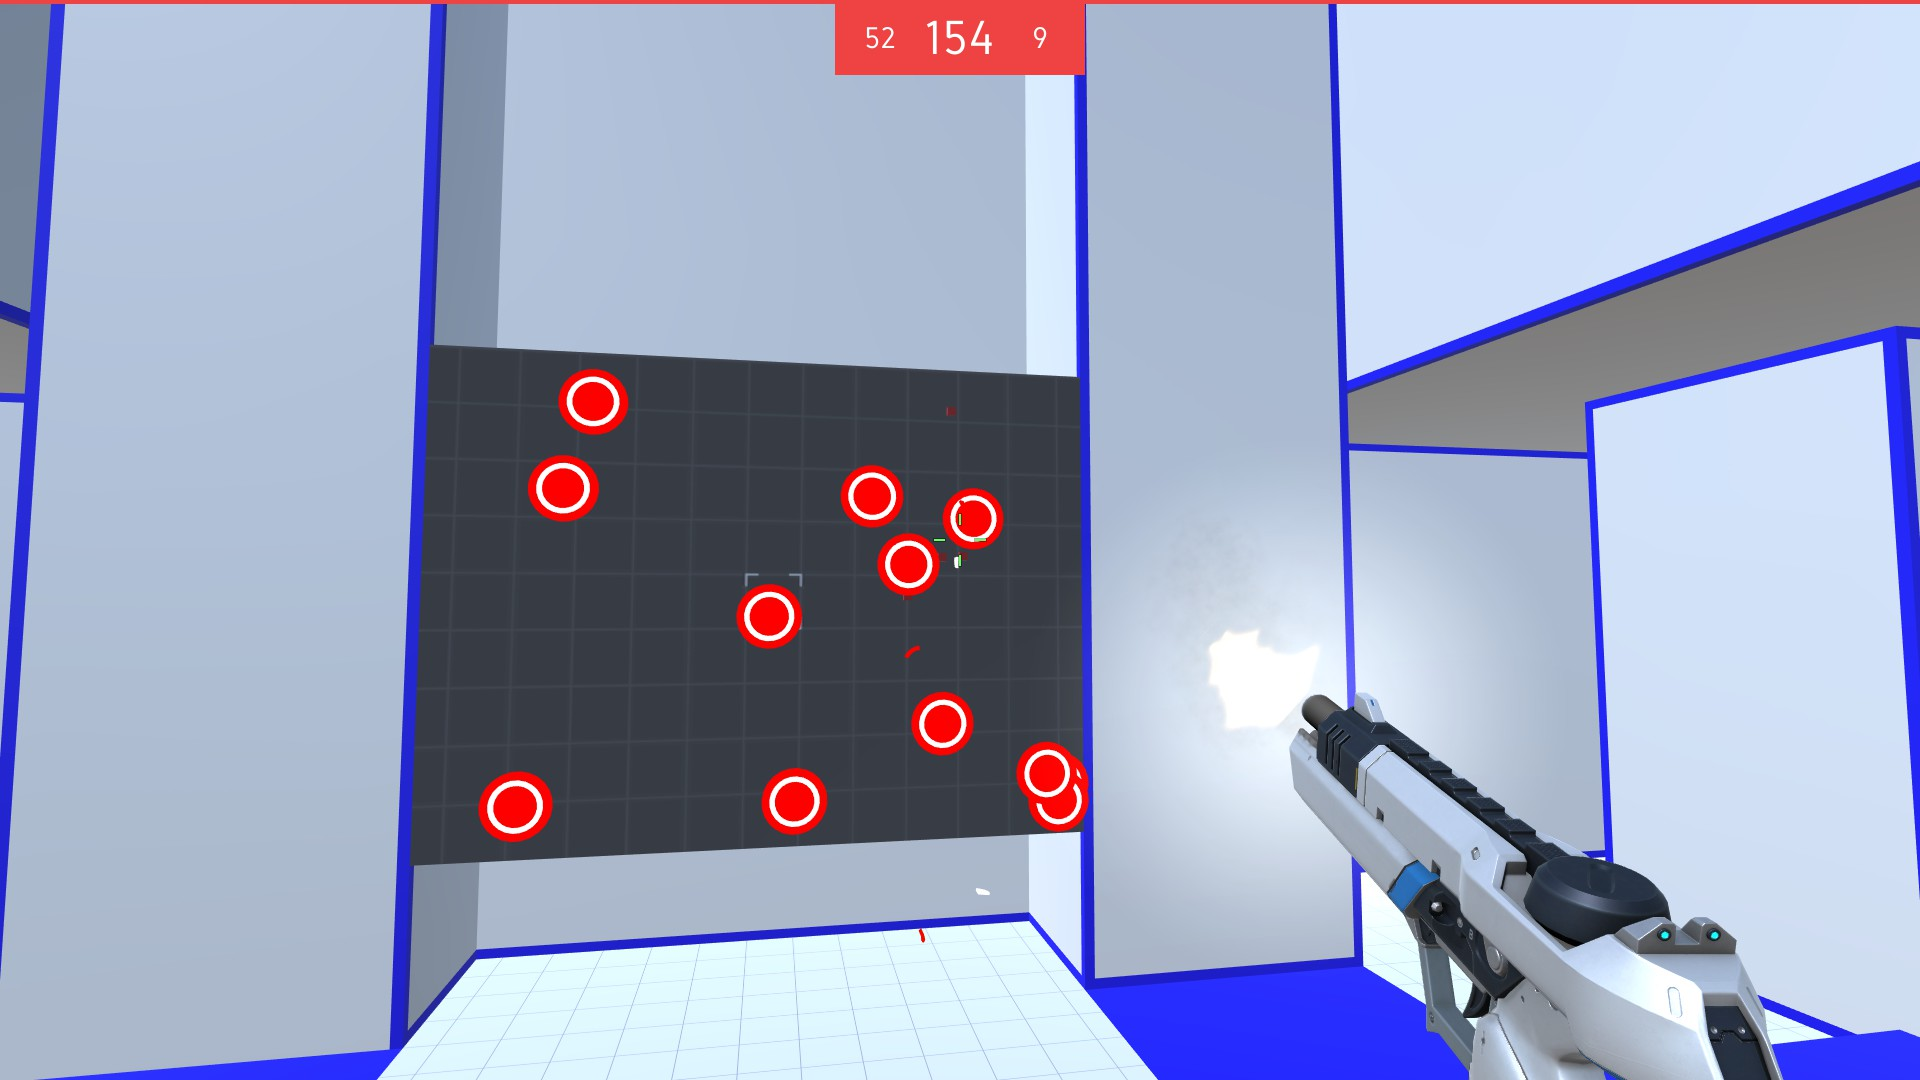target: (522, 454, 607, 526), (476, 769, 553, 845), (757, 764, 831, 837), (558, 368, 632, 438), (907, 688, 978, 760), (939, 487, 1007, 556), (876, 533, 942, 601), (837, 464, 905, 530), (738, 583, 802, 649), (1011, 740, 1069, 800), (1029, 781, 1089, 833)
